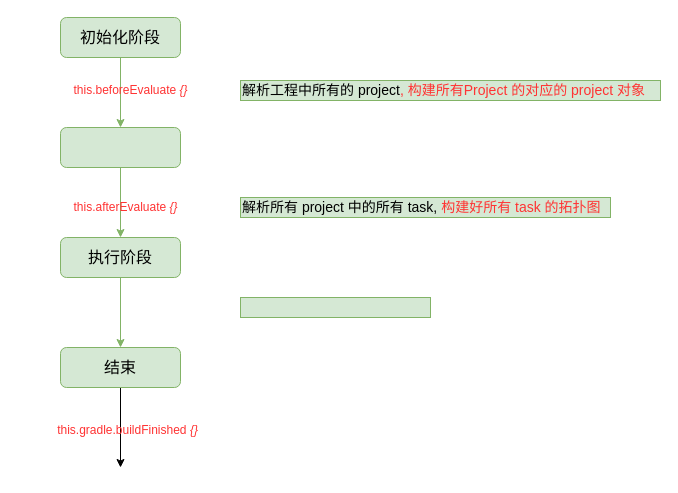
This 678x493 diagram has some shape labels left out. The shapes that lost their labels are listed below. From the top down, each one's centre as x and y in pixels, then its label:
At point (120, 147): "配置阶段".
At point (335, 307): "执行所有 task 级依赖的 task".
